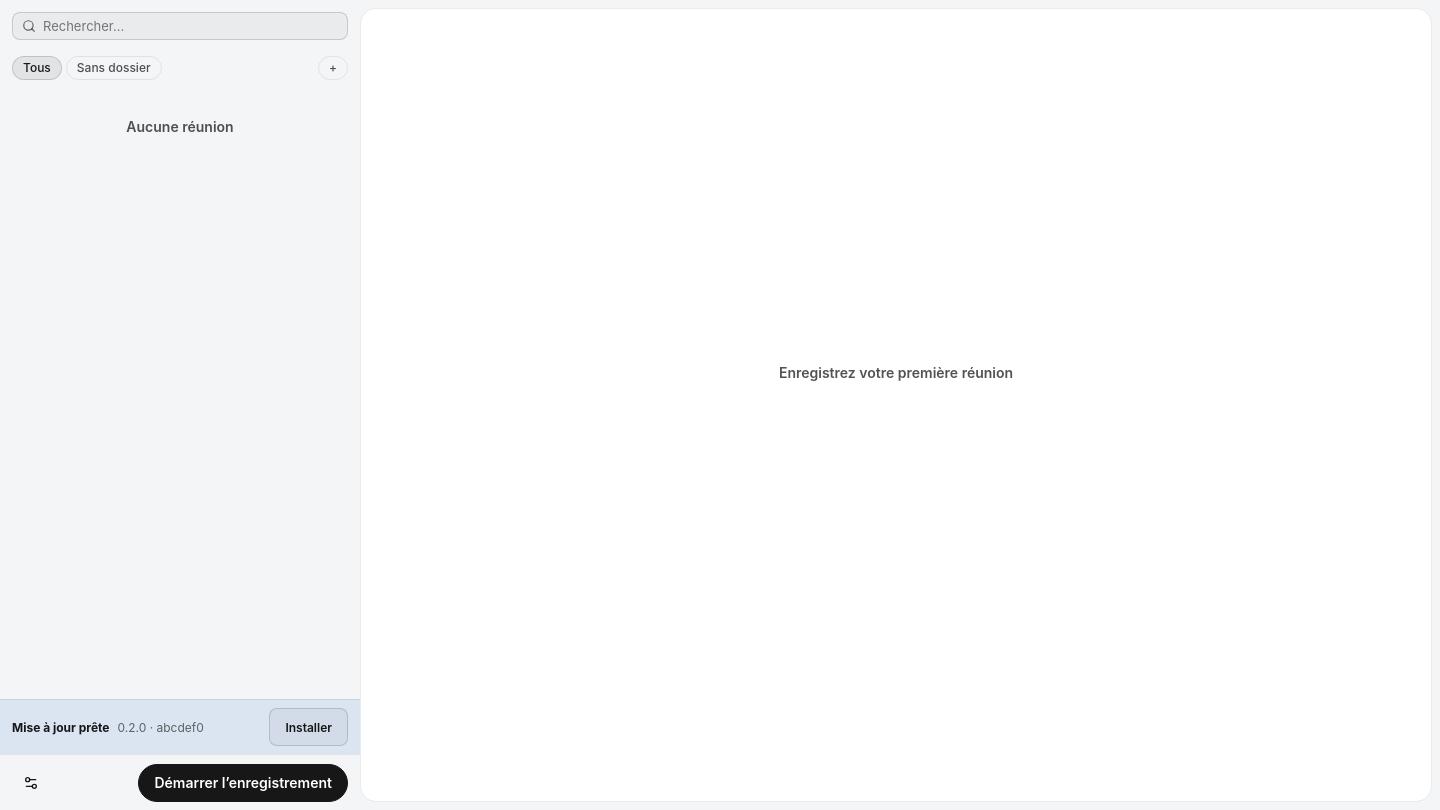
Scenario: shows the refusal in the floating notice
Click the button "Installer" at (309, 727), box [269,708,348,746]
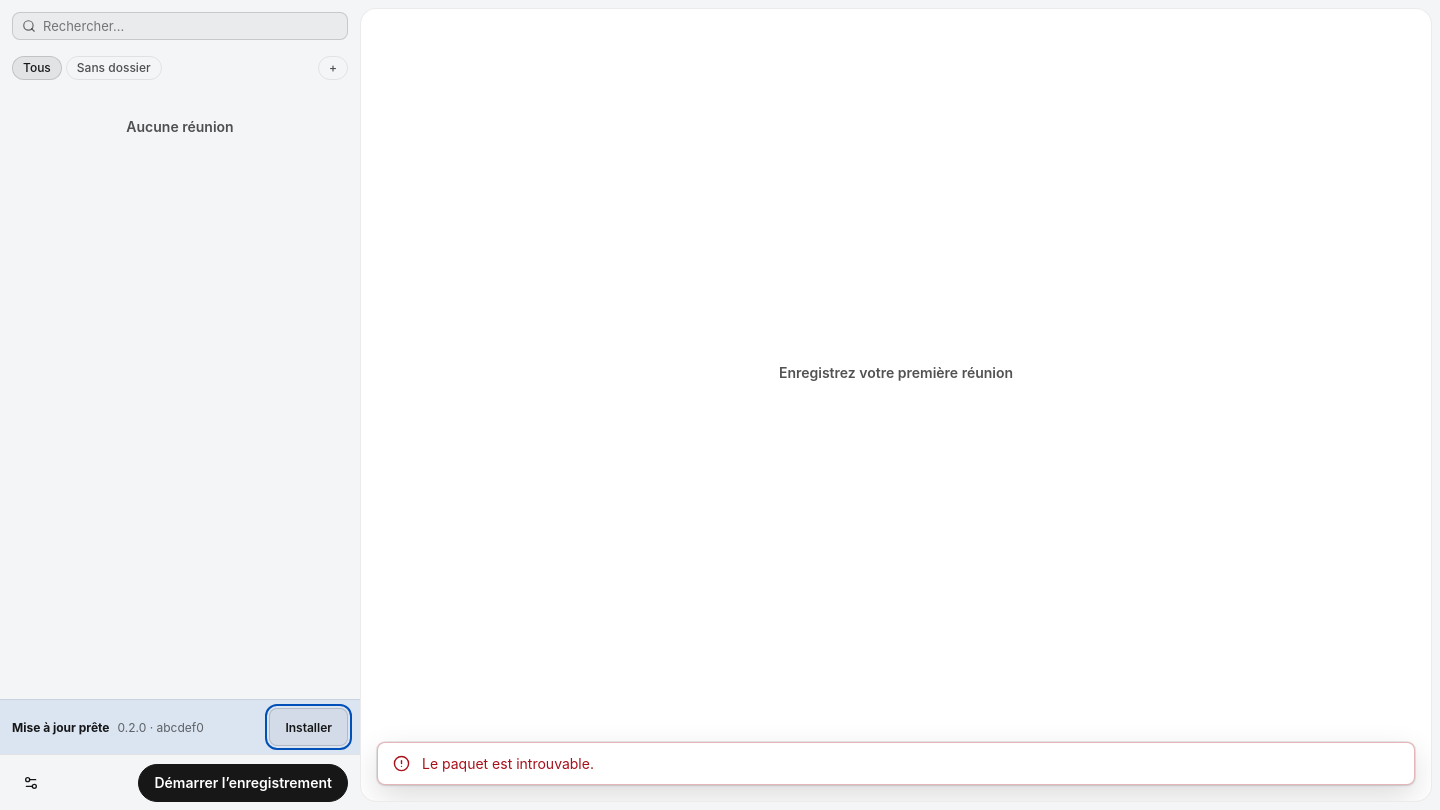
Result: the message "Le paquet est introuvable." is shown at [377,742,1415,785]
